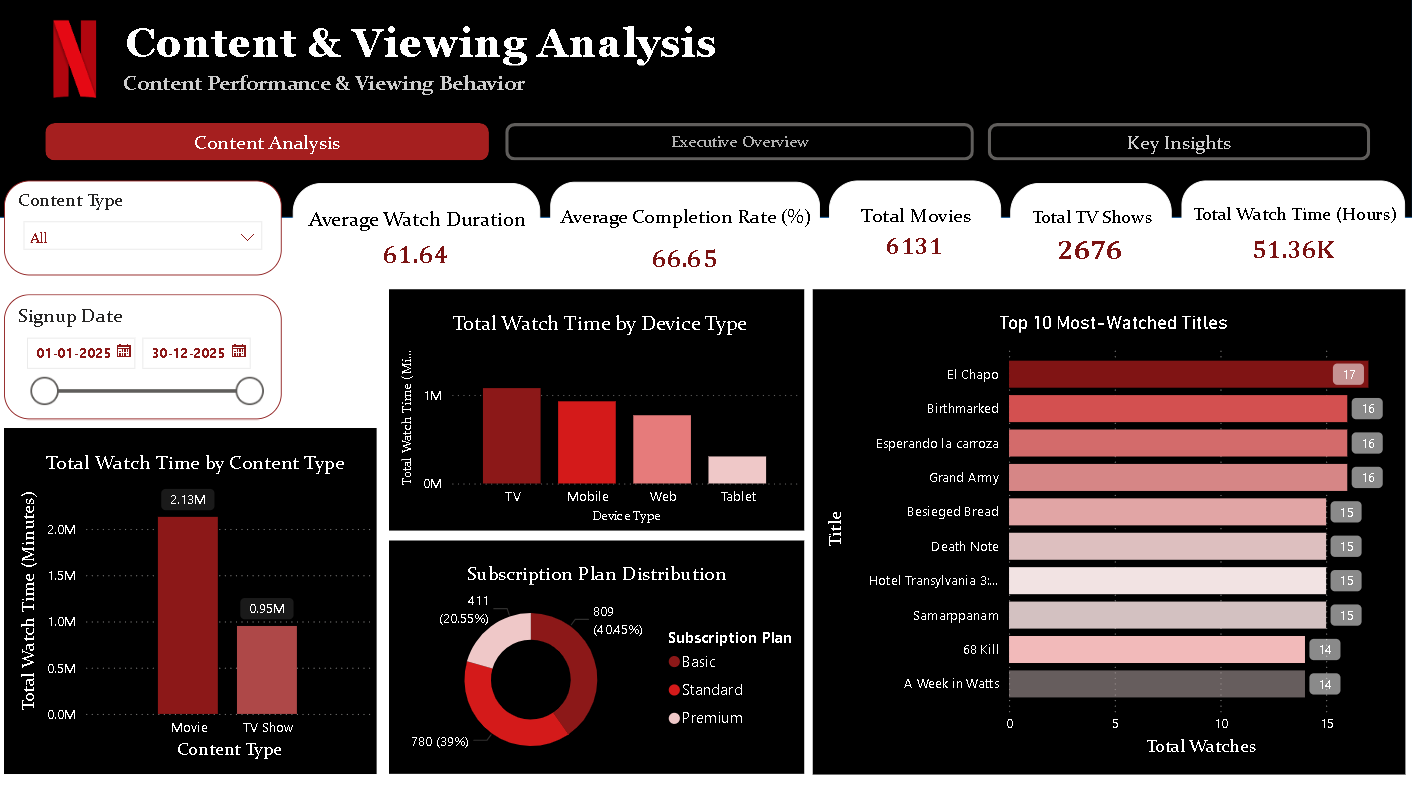

This screenshot's page, from the dashboard's own definition file:
{"tool":"powerbi","page":{"name":"Content Analysis","canvas":[1280,720],"ordinal":17},"visuals":[{"type":"shape","box":[0,7.9,1280.4,199.5],"z":0},{"type":"image","box":[0,11.3,144.3,103.7],"z":1000},{"type":"textbox","box":[113.8,22.5,577.1,62],"z":2000},{"type":"textbox","box":[111.6,69.9,511.7,45.1],"z":3000},{"type":"card","title":"Average Watch Duration","fields":{"Values":["Avg(WatchHistory.watch_duration_minutes)"]},"box":[269.4,175.8,223.2,102.6],"z":4000},{"type":"card","title":"Average Completion Rate (%)","fields":{"Values":["Avg(WatchHistory.completion_percentage)"]},"box":[501.6,174.7,243.5,112.7],"z":5000},{"type":"card","title":"Total Movies","fields":{"Values":["Count(Content.content_id)"]},"box":[752.9,173.6,155.5,93.6],"z":6000},{"type":"card","title":"Total TV Shows","fields":{"Values":["Count(Content.content_id)"]},"box":[916.3,175.8,145.4,96.9],"z":7000},{"type":"card","title":"Total Watch Time (Hours)","fields":{"Values":["WatchHistory.Total Watch Time (Hours)"]},"box":[1070.8,173.6,201.8,102.6],"z":8000},{"type":"clusteredBarChart","title":"Top 10 Most-Watched Titles","fields":{"Y":["WatchHistory.Total Watches"],"Category":["Content.Clean_Title"]},"box":[738.3,271.6,534.3,437.3],"z":9000},{"type":"clusteredColumnChart","title":"Total Watch Time by Content Type","fields":{"Category":["Content.type"],"Y":["Sum(WatchHistory.watch_duration_minutes)"]},"box":[9,396.7,335.9,312.2],"z":10000},{"type":"clusteredColumnChart","title":"Total Watch Time by Device Type","fields":{"Category":["WatchHistory.device_type"],"Y":["Sum(WatchHistory.watch_duration_minutes)"]},"box":[356.2,271.6,374.2,217.5],"z":11000},{"type":"donutChart","title":"Subscription Plan Distribution","fields":{"Category":["Users.subscription_plan"],"Y":["CountNonNull(Users.user_id)"]},"box":[356.2,498.2,374.2,210.8],"z":12000},{"type":"slicer","title":"Content Type","fields":{"Values":["Content.type"]},"box":[9,173.6,250.2,85.7],"z":13000},{"type":"slicer","title":"Signup Date","fields":{"Values":["Users.signup_date"]},"box":[9,276.1,250.2,112.7],"z":14000},{"type":"actionButton","box":[461,121.7,422.7,33.8],"z":15000},{"type":"shape","box":[46.2,121.7,400.1,33.8],"z":16000},{"type":"actionButton","box":[896.1,121.7,344.9,33.8],"z":17000}]}

Visuals, with their boxes in screenshot pixels (x1, y1, x2, y2), scaled from the page's 1280x720 canvas onto the 1412x786 screenshot:
shape: l=0, t=9, r=1411, b=226
image: l=0, t=12, r=159, b=126
textbox: l=126, t=25, r=762, b=92
textbox: l=123, t=76, r=688, b=126
"Average Watch Duration" card: l=297, t=192, r=543, b=304
"Average Completion Rate (%)" card: l=553, t=191, r=822, b=314
"Total Movies" card: l=831, t=190, r=1002, b=292
"Total TV Shows" card: l=1011, t=192, r=1171, b=298
"Total Watch Time (Hours)" card: l=1181, t=190, r=1404, b=302
"Top 10 Most-Watched Titles" clusteredBarChart: l=814, t=296, r=1404, b=774
"Total Watch Time by Content Type" clusteredColumnChart: l=10, t=433, r=380, b=774
"Total Watch Time by Device Type" clusteredColumnChart: l=393, t=296, r=806, b=534
"Subscription Plan Distribution" donutChart: l=393, t=544, r=806, b=774
"Content Type" slicer: l=10, t=190, r=286, b=283
"Signup Date" slicer: l=10, t=301, r=286, b=424
actionButton: l=509, t=133, r=975, b=170
shape: l=51, t=133, r=492, b=170
actionButton: l=989, t=133, r=1369, b=170
